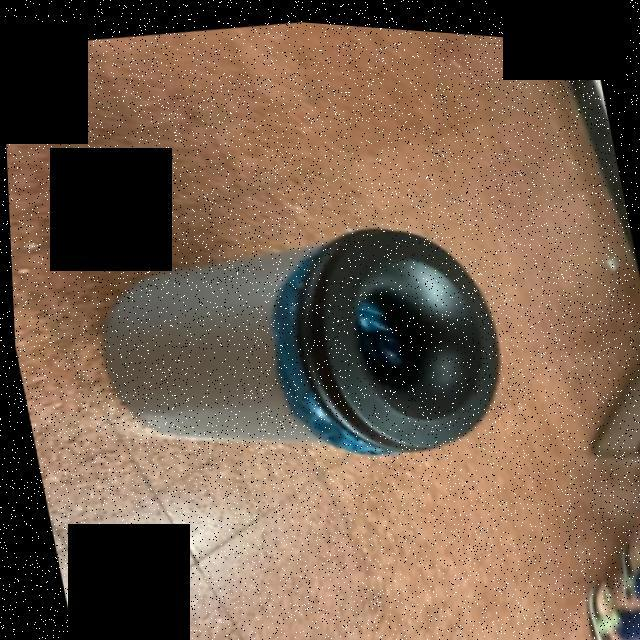bin: (57, 173, 536, 511)
